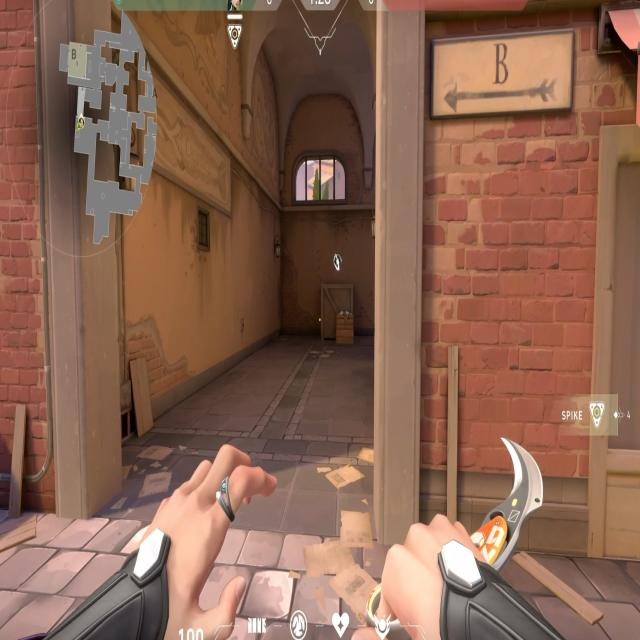B_Main_Wallbang: (316, 246, 361, 356)
Throwables: (284, 141, 350, 216)
